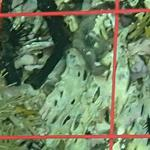dead: (1, 1, 148, 149)
